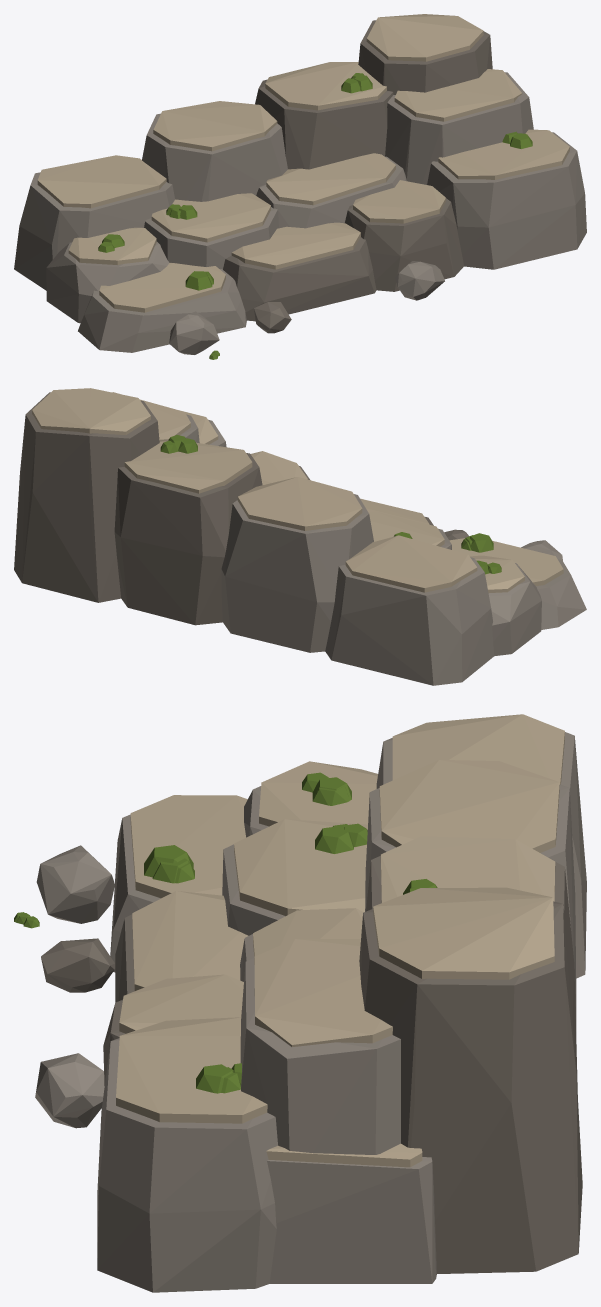
The model's file is Cliff_E.fbx.
3 views of the same model, one above another, from view 1: azimuth 30°, elevation 25°; view 2: azimuth 150°, elevation 25°; view 3: azimuth 270°, elevation 25° (orthographic). The views are drawn at different scales.
Parts seen in each view (by area): view 1: Cliff, RockLight, CliffDark, Moss; view 2: Cliff, CliffDark, RockLight, Moss; view 3: RockLight, Cliff, CliffDark, Moss.
Part boxes in pixels (bbox=[...]): Cliff: bbox=[14, 72, 586, 354]; RockLight: bbox=[37, 14, 569, 312]; CliffDark: bbox=[223, 20, 492, 333]; Moss: bbox=[98, 73, 532, 359]; Cliff: bbox=[180, 414, 586, 685]; CliffDark: bbox=[14, 392, 468, 625]; RockLight: bbox=[32, 388, 563, 592]; Moss: bbox=[160, 435, 501, 574]; RockLight: bbox=[116, 714, 564, 1167]; Cliff: bbox=[35, 732, 586, 1292]; CliffDark: bbox=[41, 856, 582, 1273]; Moss: bbox=[14, 772, 437, 1093].
Size of the model in its own units: 24.51 by 7.79 by 13.38.
